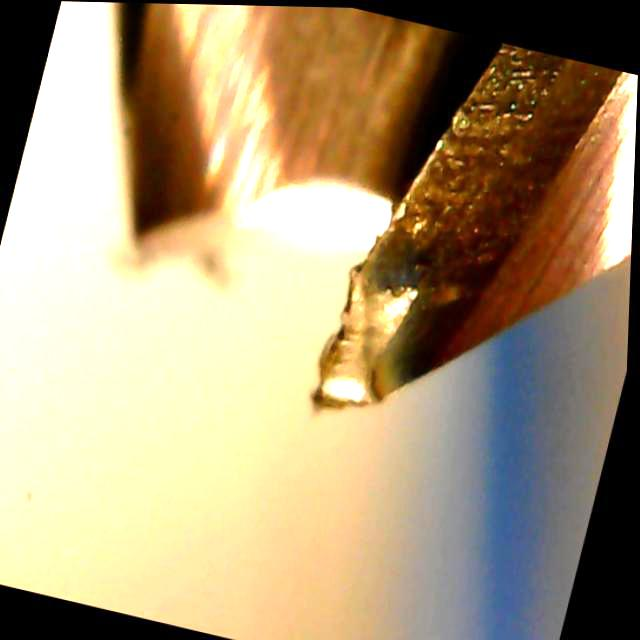Tool-wear-class-2: (300, 65, 514, 443)
